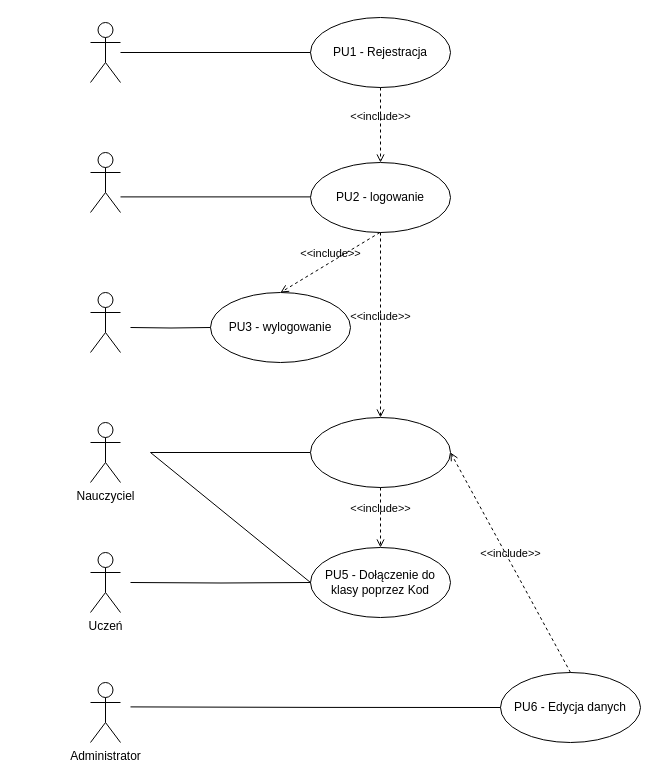
Image size: 658x781. Some labels were removed from this diagram. Here are the shapes that lost their labels. From the top down, the centre of each, then its label:
At (x=105, y=52): "Użytkownik nieposiadający konta".
At (x=105, y=182): "Niezalogowany użytkownik".
At (x=105, y=322): "Dowolny zalogowany użytkownik".
At (x=380, y=452): "PU4 - Tworzenie nowych klas".
